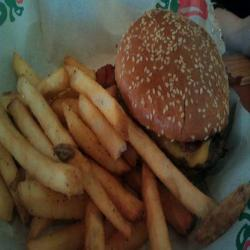burger: (113, 10, 234, 180)
fries: (14, 79, 152, 250)
